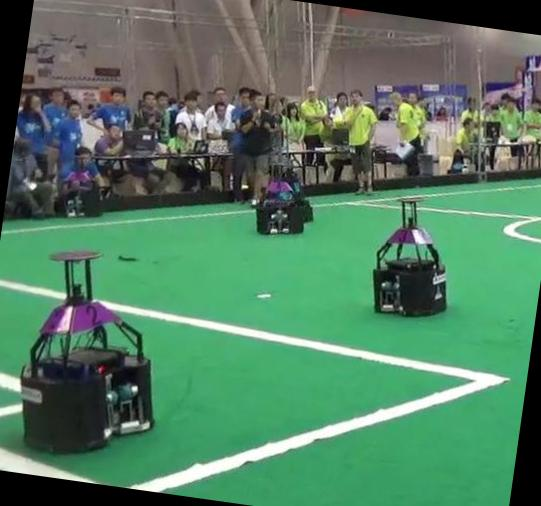person: (239, 95, 275, 205), (343, 90, 377, 192)
robot: (19, 251, 151, 451), (372, 198, 445, 315), (256, 164, 304, 235), (285, 173, 313, 222)
